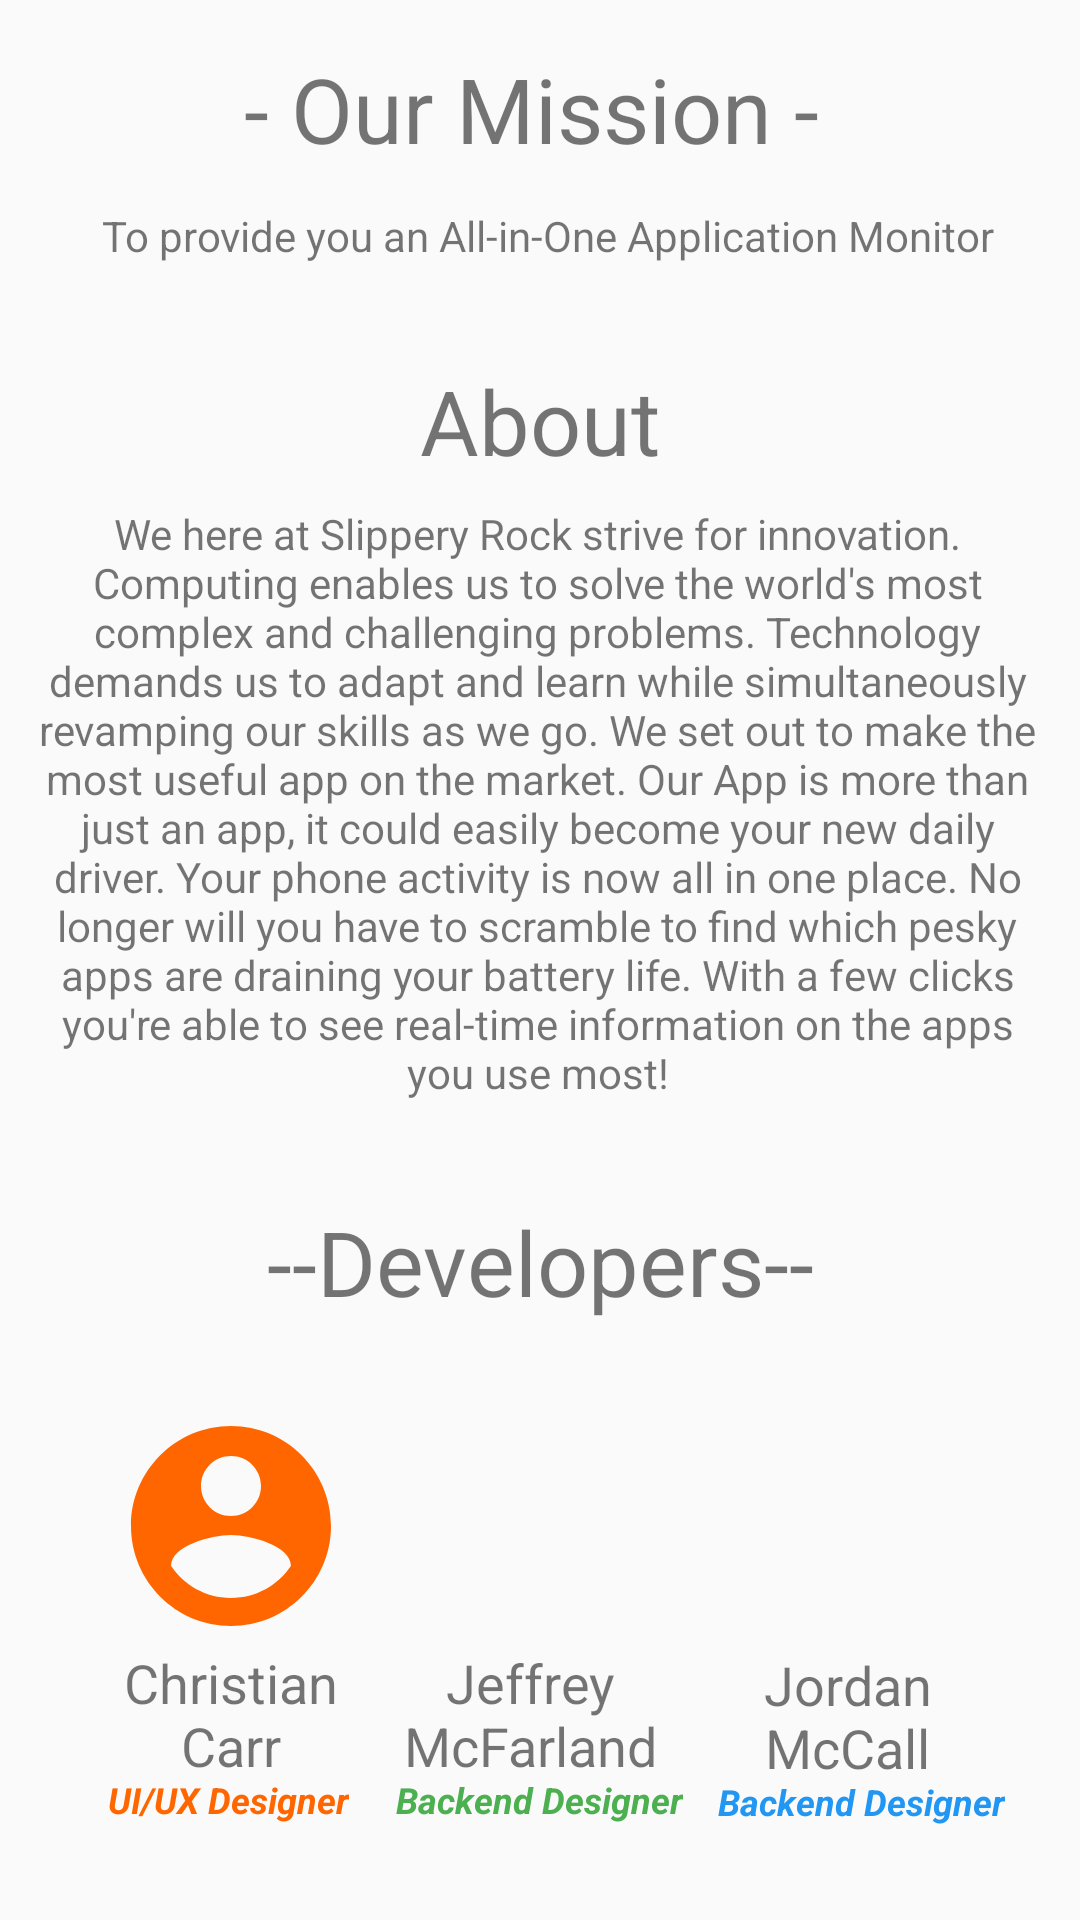

Icons on this 1080w x 1920h Android screen, each with its box as [x1,y1,x2,y2]:
account circle: [130,1426,331,1626]
